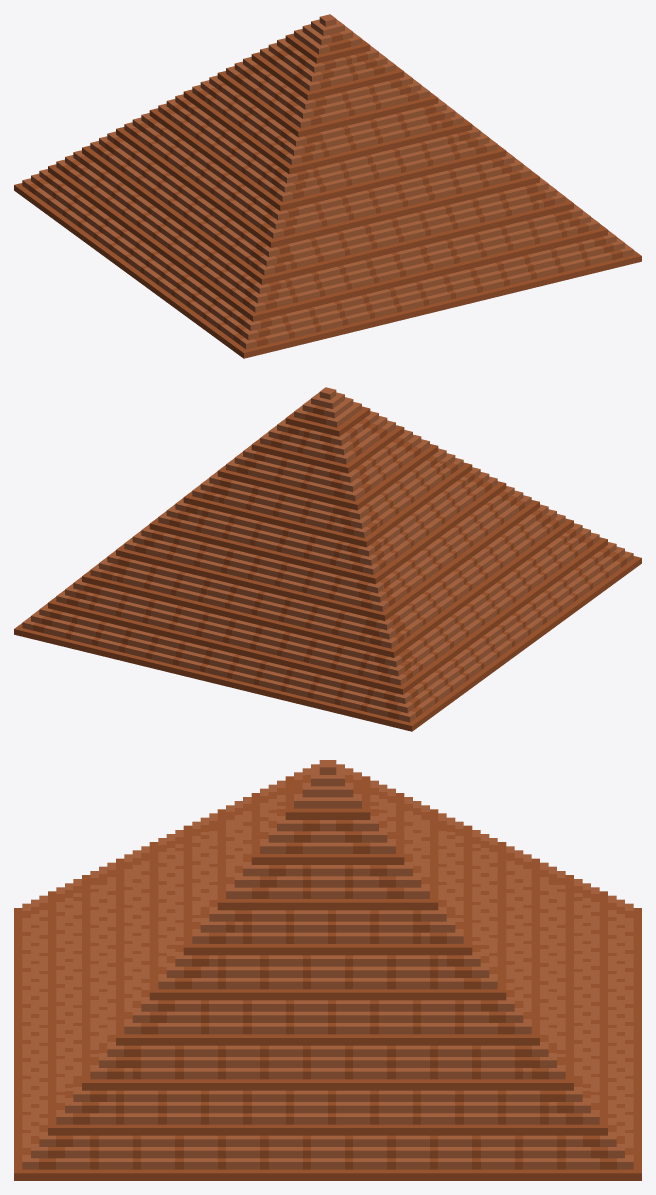
Rendered from roof_textured_orange_spikey_cube.glb.
3 views of the same model, one above another, from view 1: azimuth 30°, elevation 25°; view 2: azimuth 150°, elevation 25°; view 3: azimuth 270°, elevation 25° (orthographic). The views are drawn at different scales.
Visible parts, largest first — view 1: GameObject; view 2: GameObject; view 3: GameObject.
Part boxes in pixels (x1,y1,x2,y2): GameObject: (14, 14, 641, 358); GameObject: (14, 387, 641, 731); GameObject: (14, 760, 641, 1180).
Size of the model in its own units: 7.4 by 3.7 by 7.4.
Materials: 1 (1 with a texture image).
